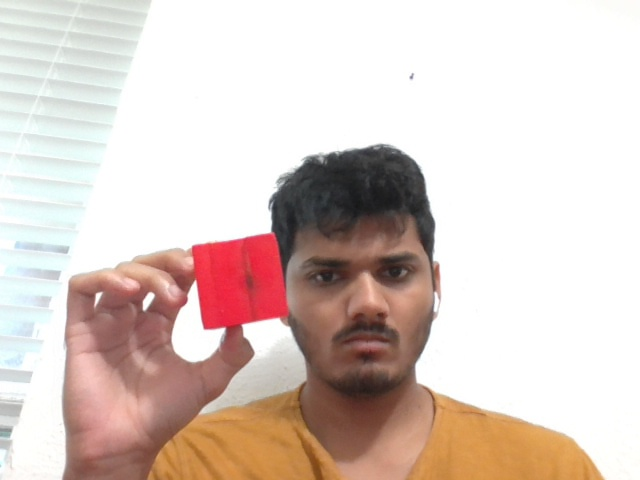RedBlock: (190, 231, 291, 331)
